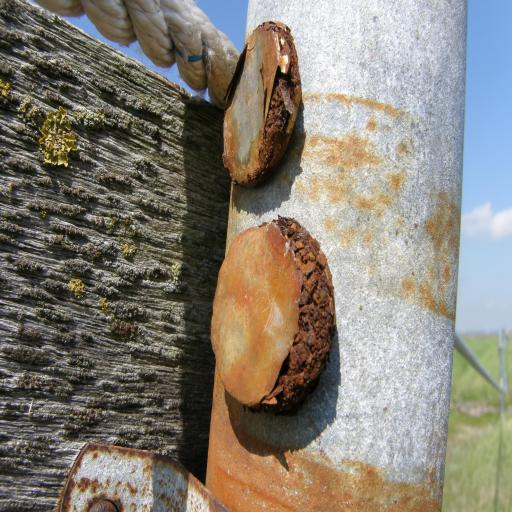segmentation: (206, 356, 441, 512), (211, 222, 303, 408), (256, 217, 335, 413), (223, 22, 302, 187), (59, 443, 231, 512)
